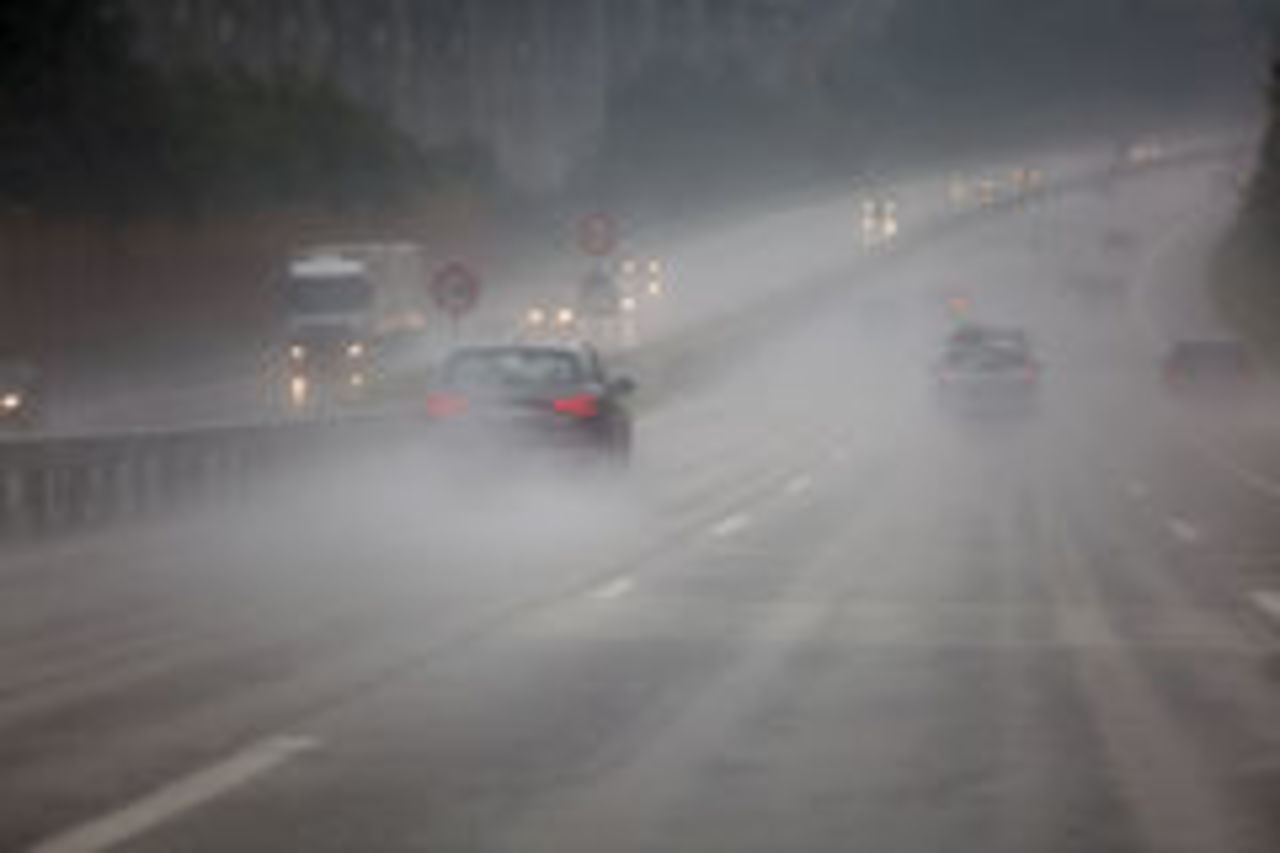car: (426, 341, 634, 495), (935, 318, 1042, 408), (1152, 339, 1256, 410), (0, 352, 56, 426), (524, 291, 577, 329)
truck: (285, 244, 424, 392)
